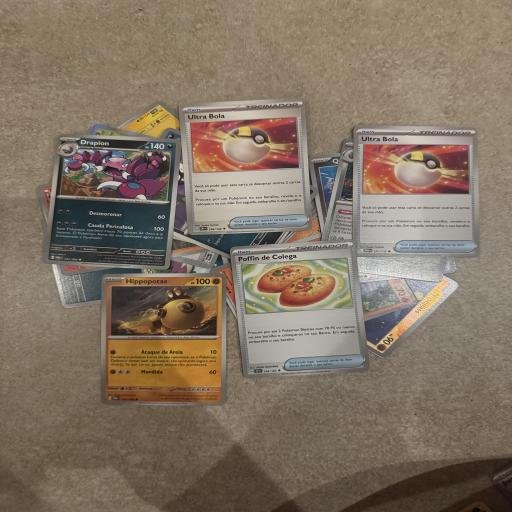card: (228, 232, 371, 386), (41, 134, 181, 269), (180, 96, 313, 238), (99, 272, 227, 407), (352, 126, 481, 258)
